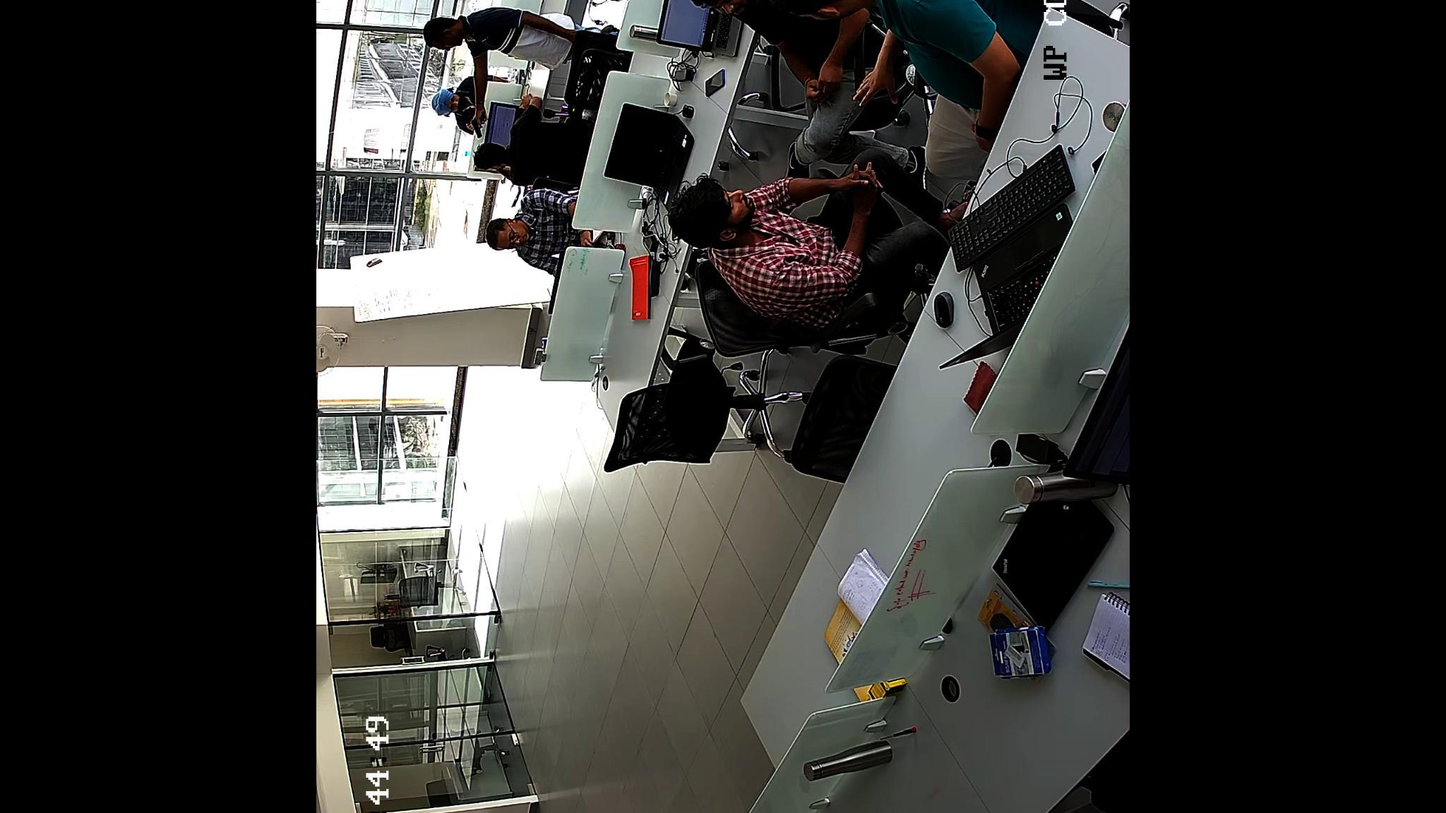gun: (470, 114, 486, 138)
